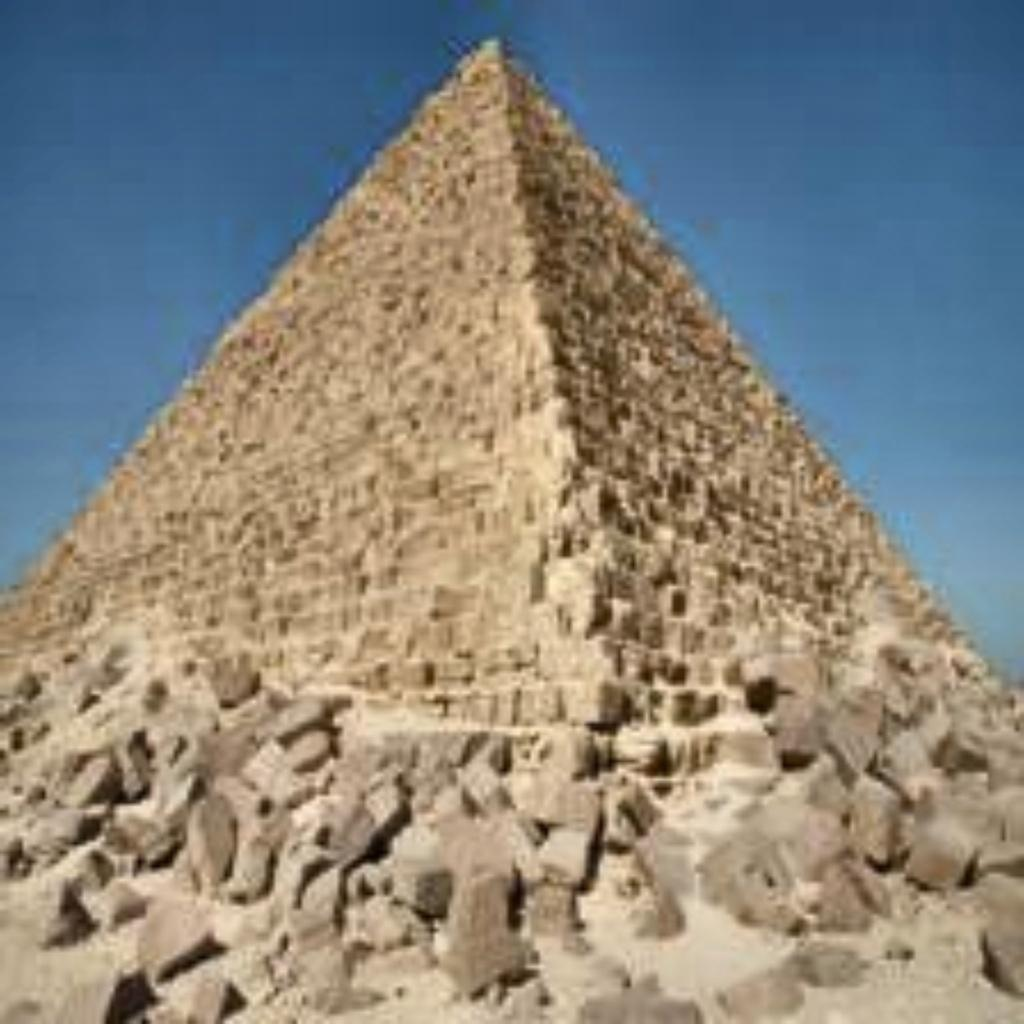Great Pyramids of Giza: (5, 32, 1024, 1019)
